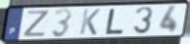3: (50, 7, 76, 39), (132, 6, 154, 36)
4: (157, 4, 180, 36)
K: (78, 8, 102, 36)
L: (104, 8, 125, 36)
Z: (22, 10, 51, 38)
